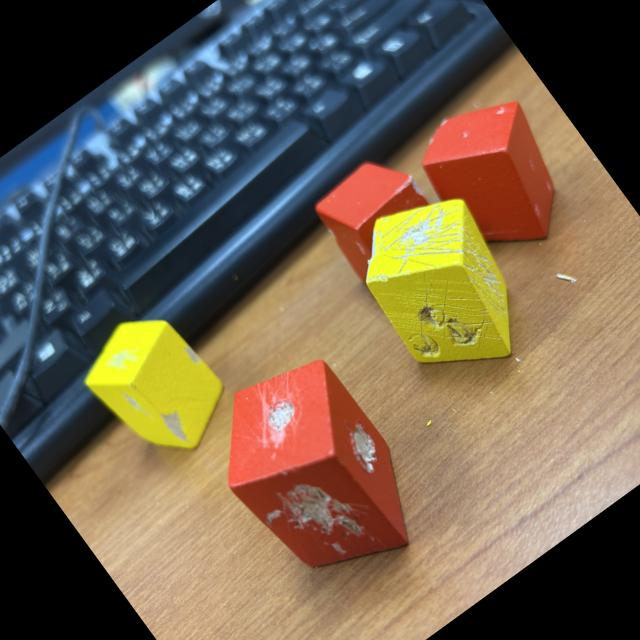broken: (187, 338, 442, 609), (334, 170, 554, 401), (401, 77, 592, 276), (68, 294, 246, 479), (306, 143, 462, 304)
